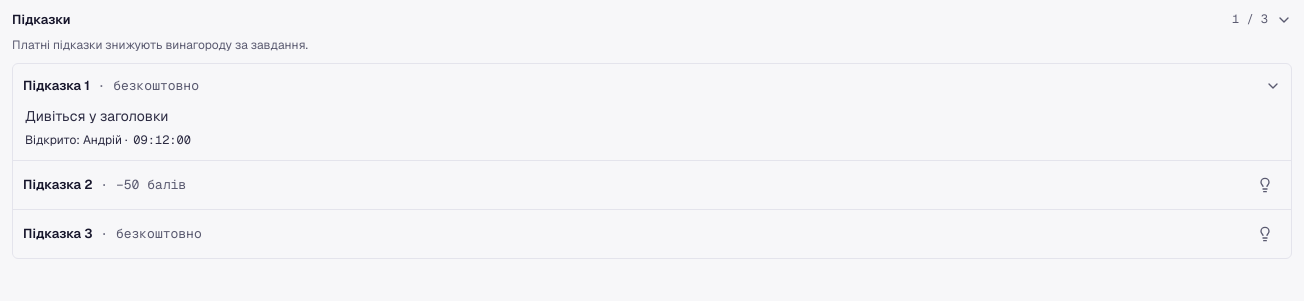
HintsBlock › shows the error when the unlock fails
Click the button named "Відкрити підказку". click: (1265, 234)
box: [1249,218,1281,250]
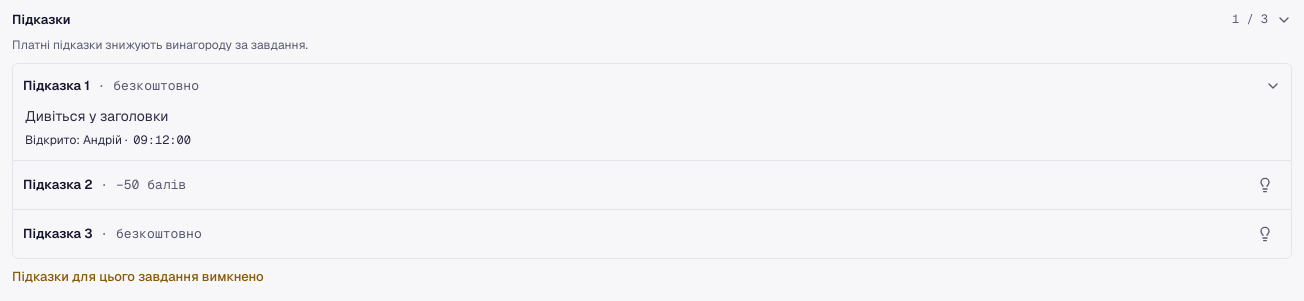
Expected: the text "Підказки для цього завдання вимкнено" is shown, [12,268,264,285]
